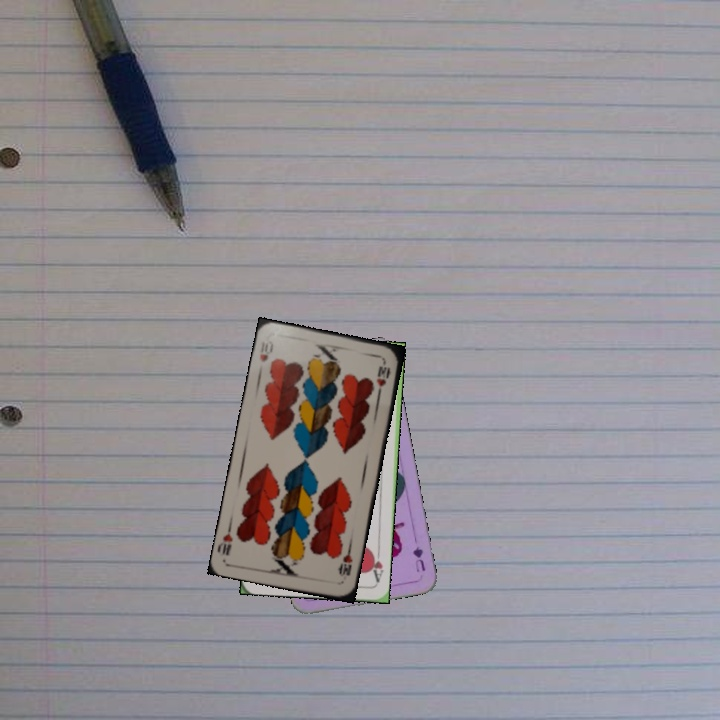GU: (408, 542, 427, 575)
H10: (335, 543, 355, 579), (256, 336, 276, 365)
HA: (366, 545, 386, 585)
